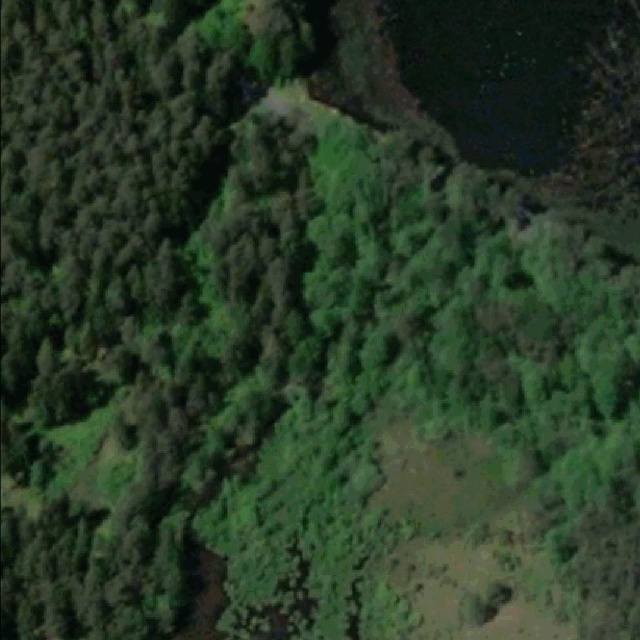vegetation: (2, 2, 637, 640)
